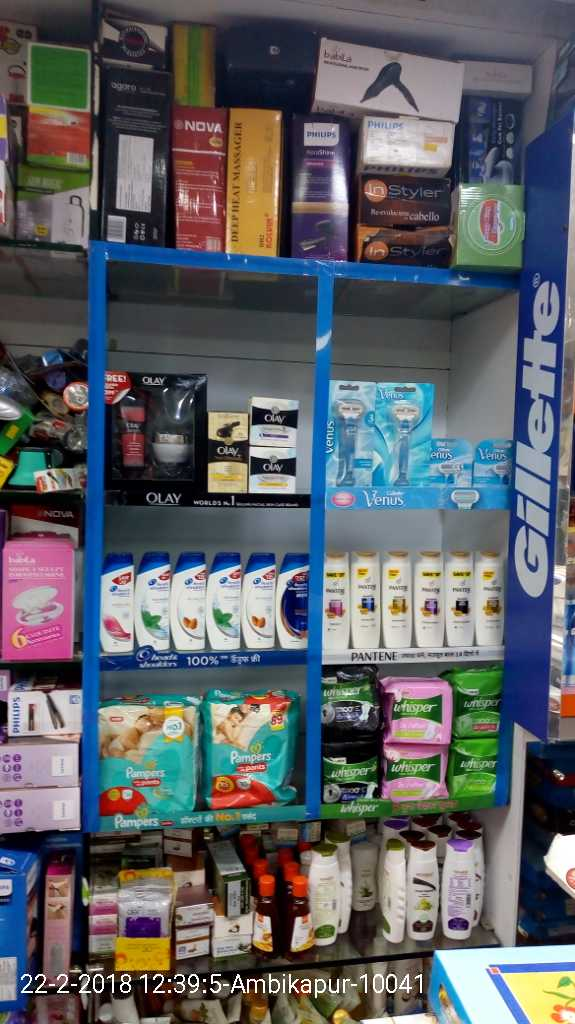venus: (375, 380, 430, 477), (332, 384, 376, 480), (433, 442, 475, 477), (478, 442, 516, 477)
